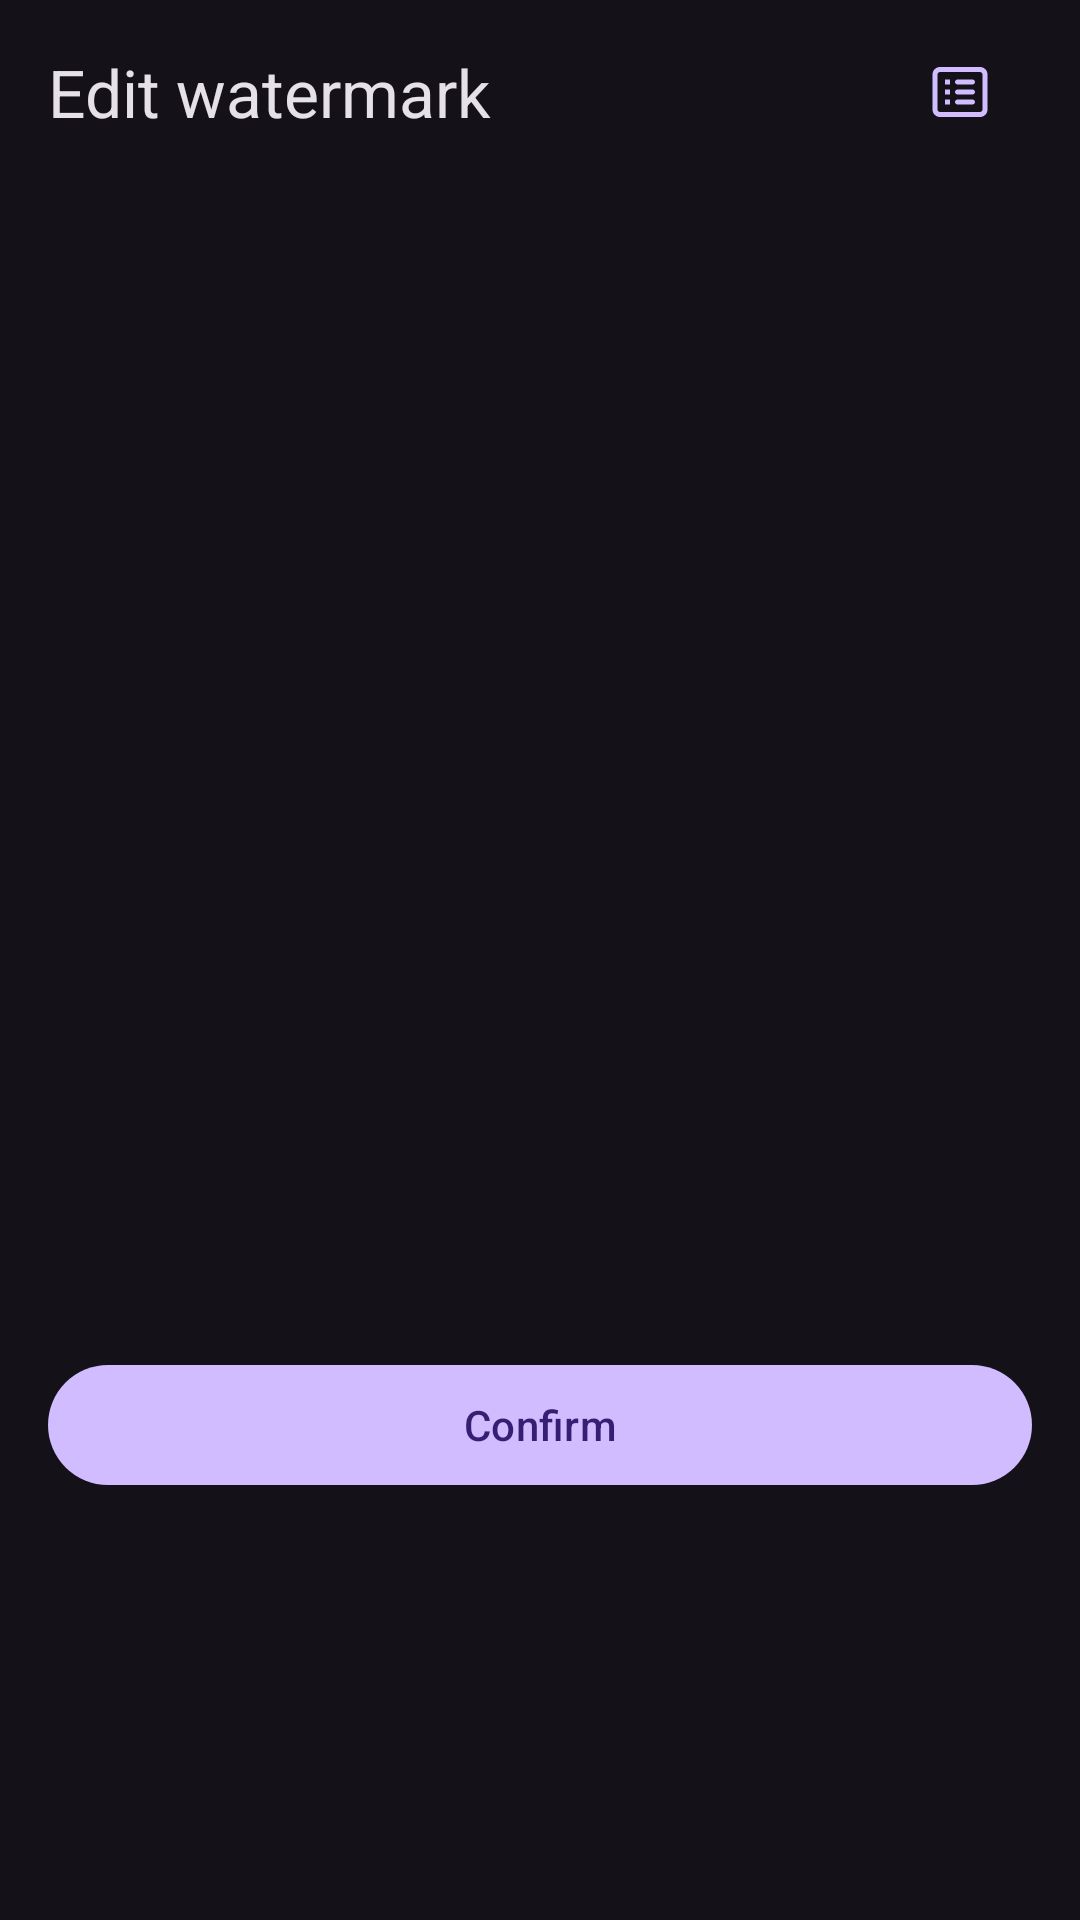

Point at icon controls on the screen. Image size 1080x1920, points as (x,y).
go template list: (960,92)
